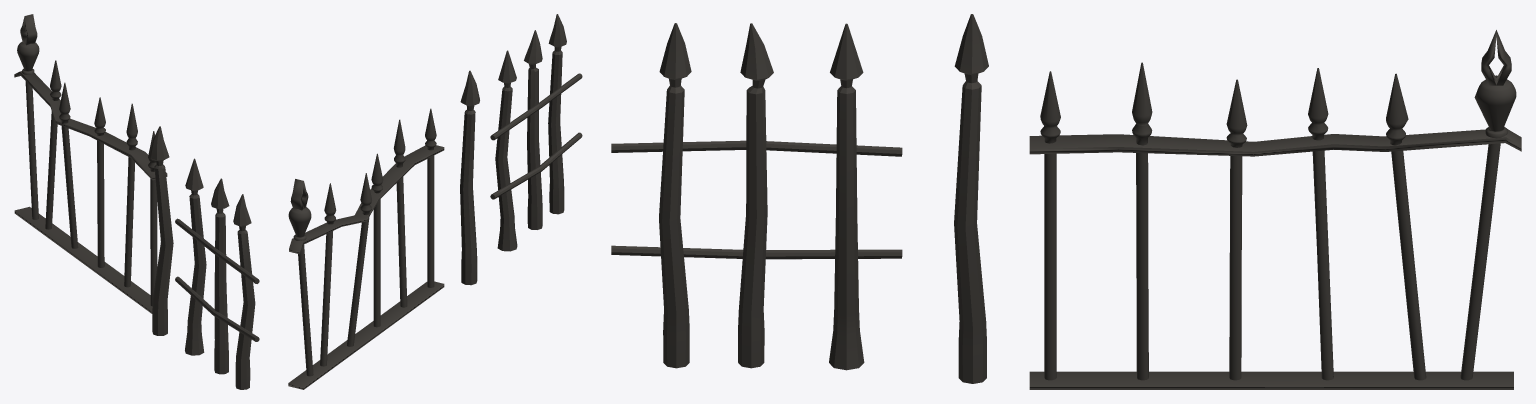
The model's file is Iron_Fence.fbx.
3 renders of one model, left to right at view 1: azimuth 30°, elevation 25°; view 2: azimuth 150°, elevation 25°; view 3: azimuth 270°, elevation 25°, orthographic. The views are drawn at different scales.
Visible parts, largest first — view 1: fence_, Ironfence, Ironfence.001; view 2: fence_, Ironfence, Ironfence.001; view 3: fence_, Ironfence, Ironfence.001.
Part boxes in pixels (x1,y1,x2,y2): fence_: (14,14,167,313); Ironfence: (175,158,259,389); Ironfence.001: (150,126,173,335); fence_: (288,108,444,389); Ironfence: (490,14,582,251); Ironfence.001: (460,70,479,285); fence_: (1029,30,1521,389); Ironfence: (611,23,902,370); Ironfence.001: (954,14,988,383).
Size of the model in its own units: 22.74 by 121 by 274.
